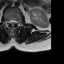CCS_normal: (11, 18, 13, 27)
LFS_stenosis: (16, 19, 18, 25)
LLS_normal: (13, 18, 16, 26)
RFS_normal: (6, 18, 9, 25)
RLS_normal: (9, 18, 11, 25)
